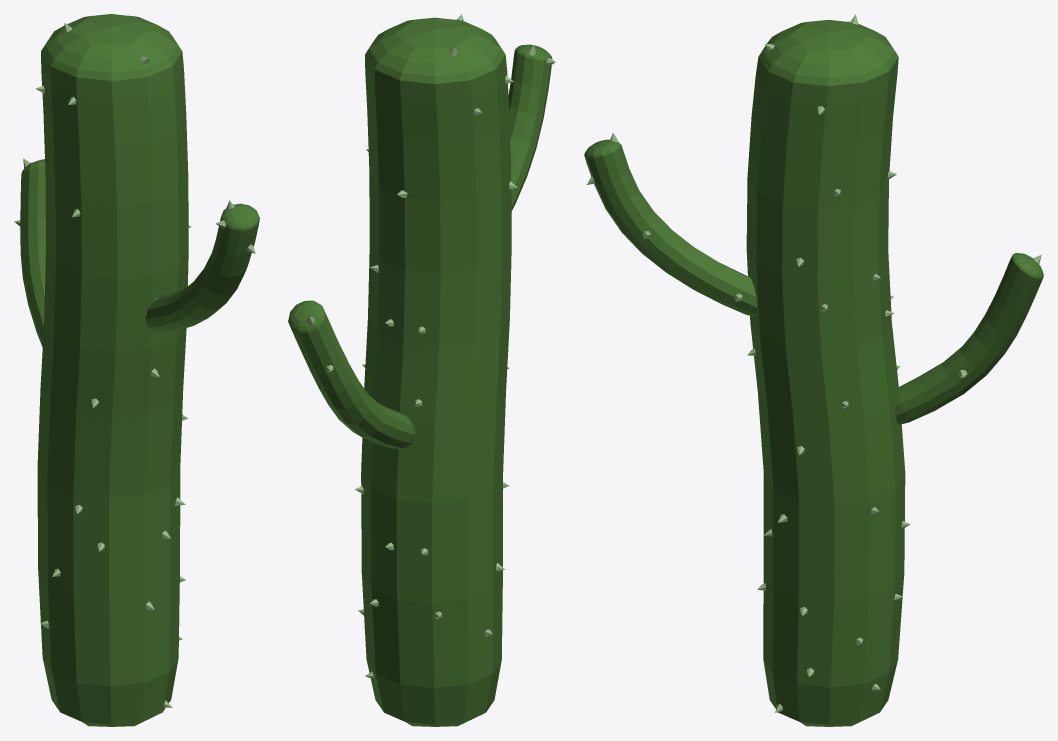
The model's file is Cactus3.glb.
3 views of the same model, side by side, from view 1: azimuth 30°, elevation 25°; view 2: azimuth 150°, elevation 25°; view 3: azimuth 270°, elevation 25° (orthographic).
Visible parts, largest first — view 1: Cactus; view 2: Cactus; view 3: Cactus.
Part boxes in pixels (x1,y1,x2,y2): Cactus: [14, 14, 259, 726]; Cactus: [288, 14, 555, 726]; Cactus: [584, 14, 1043, 726].
Size of the model in its own units: 0.5976 by 2.96 by 1.8.
2 materials, 2 textured.
